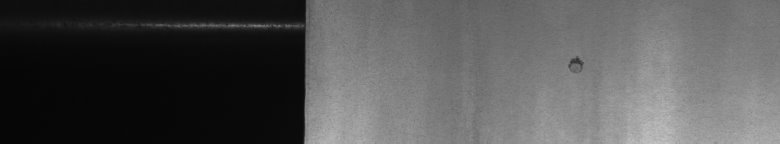fi: (564, 49, 588, 76)
